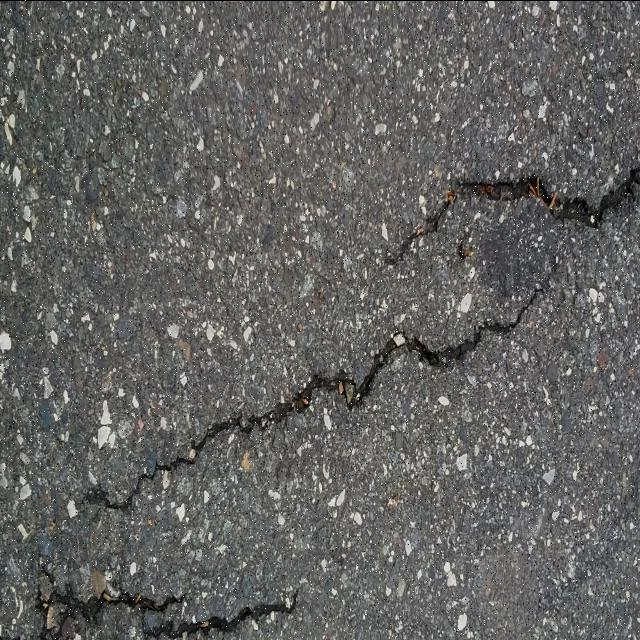Crack: (87, 285, 542, 511), (384, 163, 640, 264), (36, 567, 298, 640)
